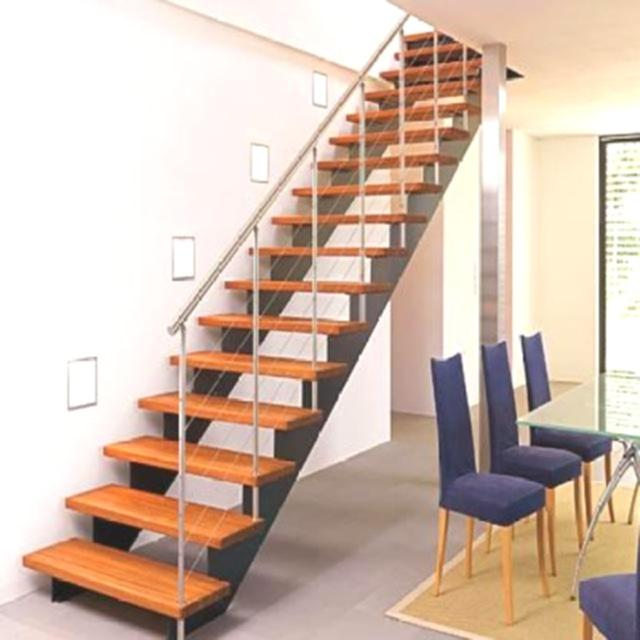stair: (17, 0, 519, 638)
